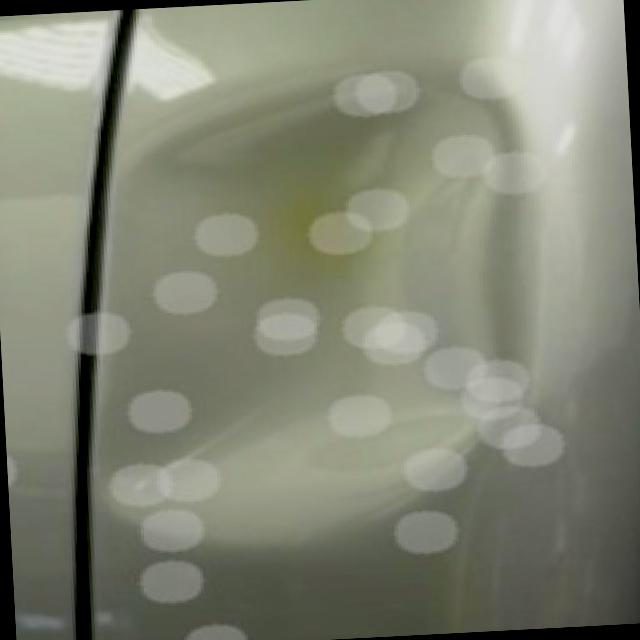dent: (83, 69, 531, 548)
